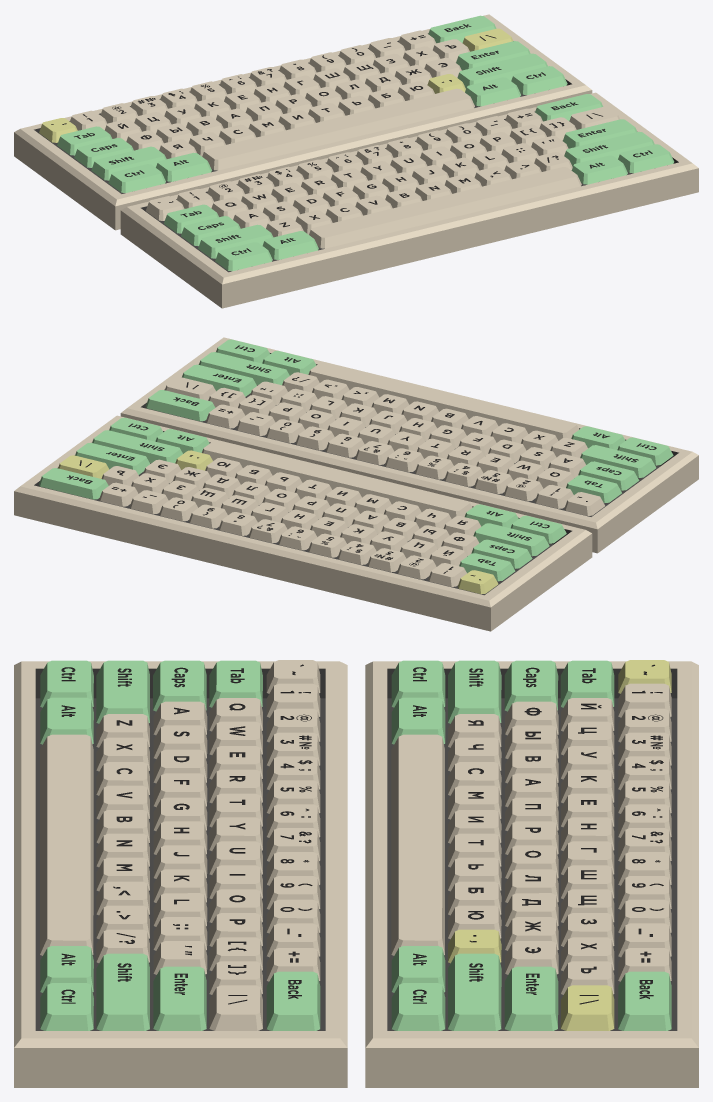
The model's file is keyboard_classic.fbx.
3 renders of one model, top to bottom at view 1: azimuth 30°, elevation 25°; view 2: azimuth 150°, elevation 25°; view 3: azimuth 270°, elevation 25°, orthographic. The views are drawn at different scales.
Visible parts, largest first — view 1: Куб_2, Куб, Выдавливание_6, Выдавливание_64, Выдавливание_61, Выдавливание_3, Выдавливание_7, Выдавливание_65, Выдавливание_60, Выдавливание_2, Выдавливание_69, Выдавливание_11 (+106 smaller); view 2: Куб, Куб_2, Выдавливание_64, Выдавливание_6, Выдавливание_61, Выдавливание_3, Выдавливание, Выдавливание_59, Выдавливание_65, Выдавливание_7, Выдавливание_60, Выдавливание_2 (+108 smaller); view 3: Куб, Куб_2, Выдавливание_64, Выдавливание_6, Куб_1, Куб_1_2, Выдавливание_61, Выдавливание_3, Выдавливание_2, Выдавливание_60, Выдавливание_59, Выдавливание (+108 smaller).
Part boxes in pixels (box(x1,y1,x2,y2)): Куб_2: box(120, 92, 698, 308); Куб: box(14, 14, 592, 230); Выдавливание_6: box(202, 88, 474, 170); Выдавливание_64: box(309, 167, 581, 248); Выдавливание_61: box(564, 131, 654, 166); Выдавливание_3: box(457, 53, 547, 88); Выдавливание_7: box(91, 146, 166, 180); Выдавливание_65: box(198, 224, 273, 258); Выдавливание_60: box(563, 119, 637, 148); Выдавливание_2: box(456, 41, 530, 70); Выдавливание_69: box(215, 242, 272, 271); Выдавливание_11: box(108, 164, 165, 192); Куб: box(14, 415, 592, 631); Куб_2: box(120, 337, 698, 553); Выдавливание_64: box(308, 362, 579, 440); Выдавливание_6: box(202, 440, 472, 518); Выдавливание_61: box(199, 352, 289, 385); Выдавливание_3: box(92, 430, 182, 463); Выдавливание: box(39, 468, 108, 499); Выдавливание_59: box(145, 390, 215, 421); Выдавливание_65: box(580, 445, 656, 477); Выдавливание_7: box(473, 523, 549, 556); Выдавливание_60: box(182, 364, 256, 396); Выдавливание_2: box(75, 443, 149, 474); Куб: box(365, 661, 698, 1087); Куб_2: box(14, 661, 347, 1087); Выдавливание_64: box(40, 734, 93, 955); Выдавливание_6: box(391, 734, 444, 955); Куб_1: box(387, 668, 677, 1030); Куб_1_2: box(35, 668, 325, 1030); Выдавливание_61: box(96, 953, 149, 1030); Выдавливание_3: box(448, 953, 501, 1030); Выдавливание_2: box(504, 966, 558, 1030); Выдавливание_60: box(153, 966, 206, 1030); Выдавливание_59: box(266, 971, 320, 1030); Выдавливание: box(618, 971, 671, 1030).
Size of what is drawn, in the model's own units: 599 by 42.96 by 453.
